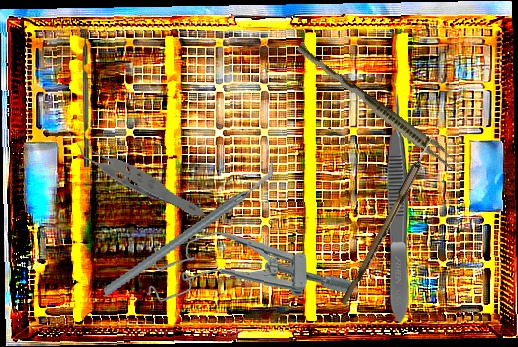Chopper: (84, 158, 295, 298), (77, 25, 89, 167)
Speculum: (146, 228, 353, 310)
Surgical Spoon: (340, 111, 448, 308)
Tissue Forceps: (291, 41, 463, 173), (71, 97, 206, 254), (387, 93, 410, 323)
